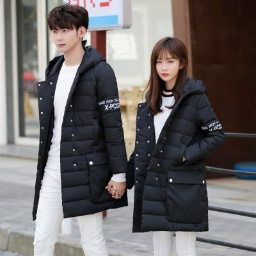face: (142, 33, 199, 113), (44, 2, 106, 58)
